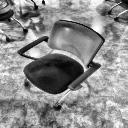chair_success: (15, 19, 109, 110)
